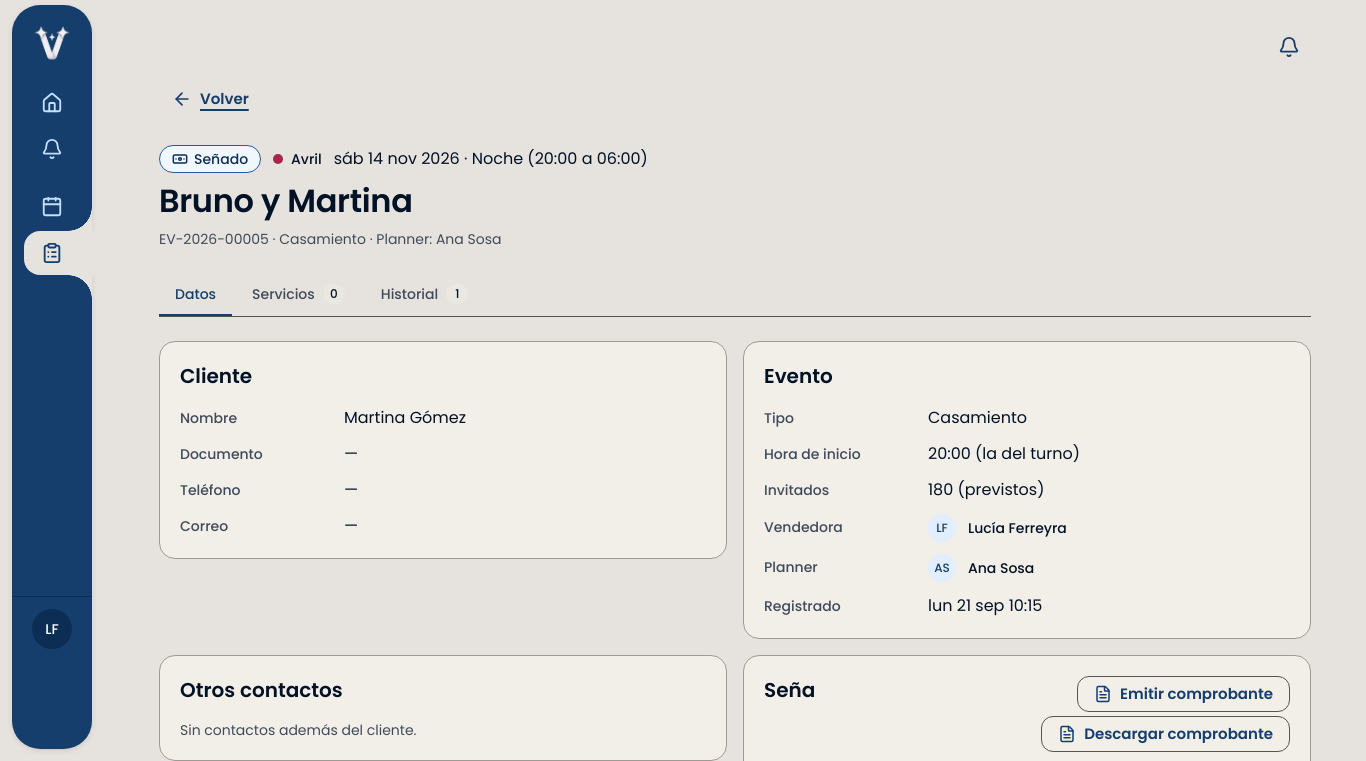
Test: M-07 · comprobante interno de la seña › si el sistema lo rechaza, lo dice al lado del botón
What coordinates should you click on to do the following:
click the button "Descargar comprobante"
I would click on:
 (1166, 734)
Its box is [1041,716,1290,752].
(page scrolled)
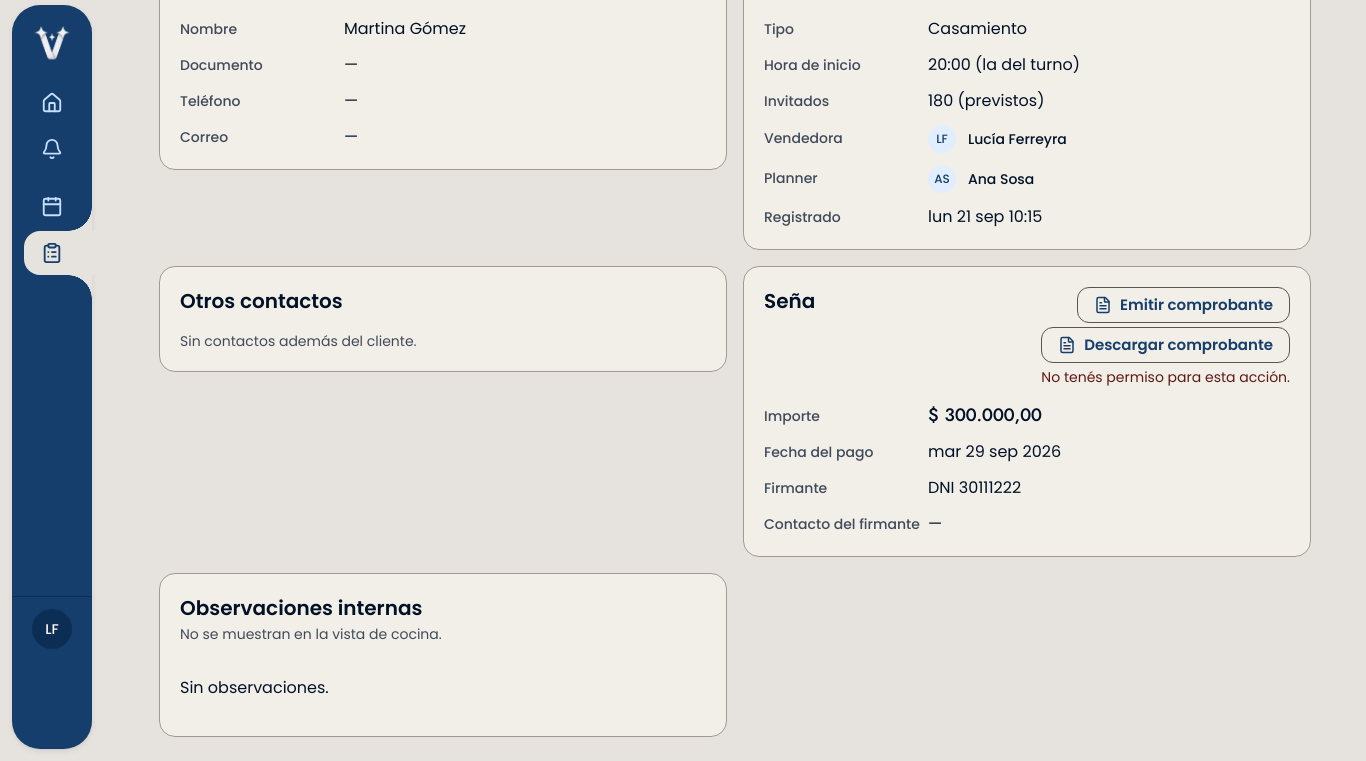
Now the message reads "No tenés permiso para esta acción.", box [1041,367,1290,387]
